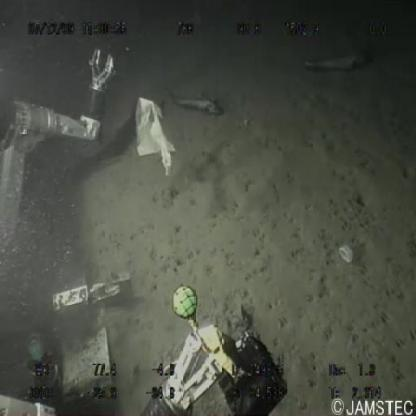Bio: (302, 49, 374, 75), (172, 89, 227, 119)
Rov: (1, 40, 295, 416)
Rác: (129, 95, 180, 181), (335, 242, 356, 268)
